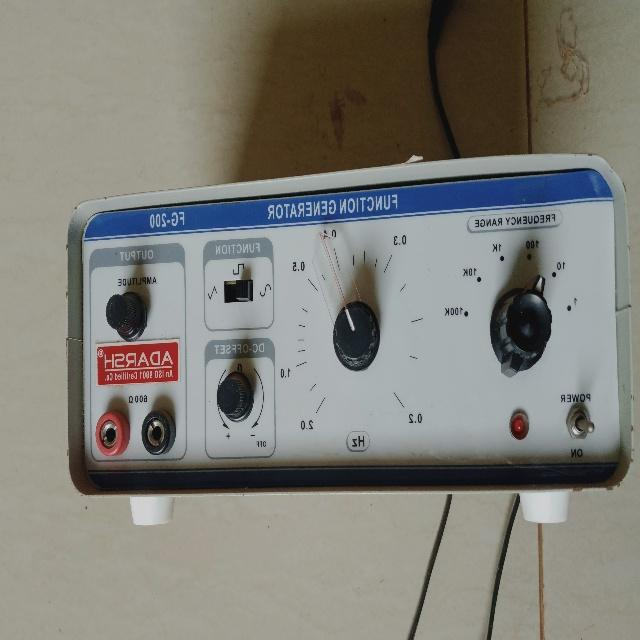Function Generator 100Khz: (55, 138, 640, 526)
